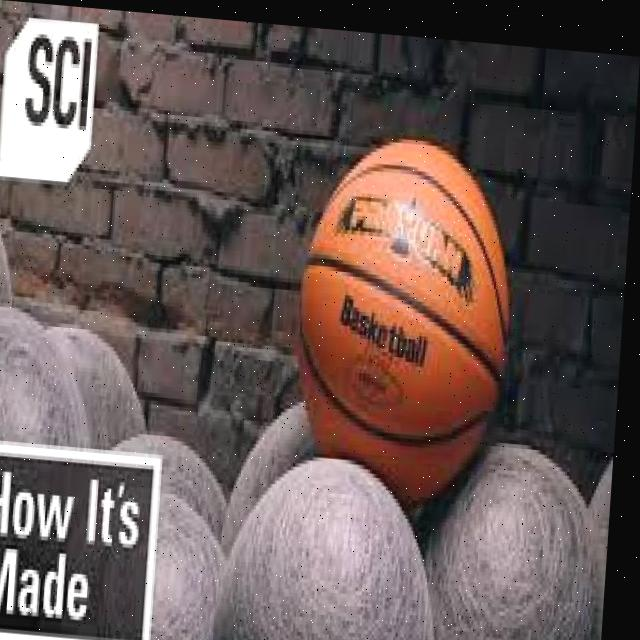Basketball: (285, 133, 521, 513)
